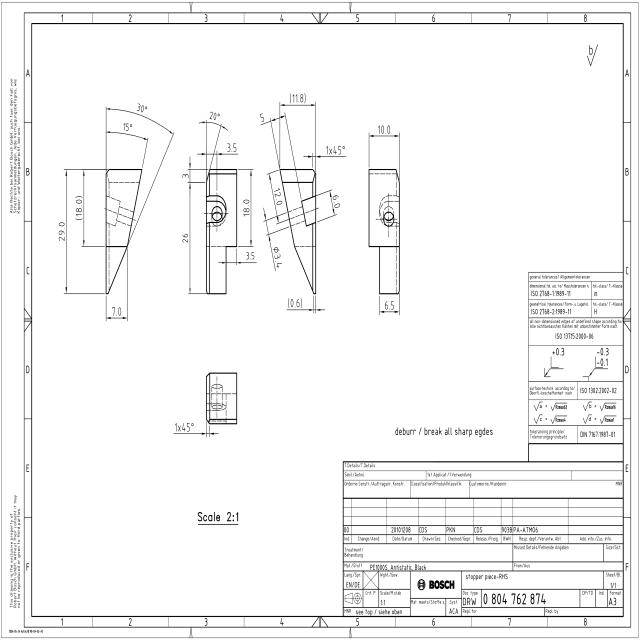dimension: (104, 102, 176, 138), (57, 166, 70, 296), (181, 182, 193, 294), (74, 167, 87, 250), (242, 168, 255, 248), (105, 121, 149, 142), (172, 421, 220, 439), (285, 297, 326, 316), (304, 144, 348, 161), (268, 172, 282, 224), (198, 142, 240, 159), (218, 249, 257, 267), (279, 92, 316, 110), (367, 122, 400, 142), (198, 111, 229, 132), (321, 189, 341, 217), (105, 303, 128, 322), (260, 111, 285, 128), (180, 157, 193, 189), (378, 299, 401, 317), (272, 242, 284, 270)
